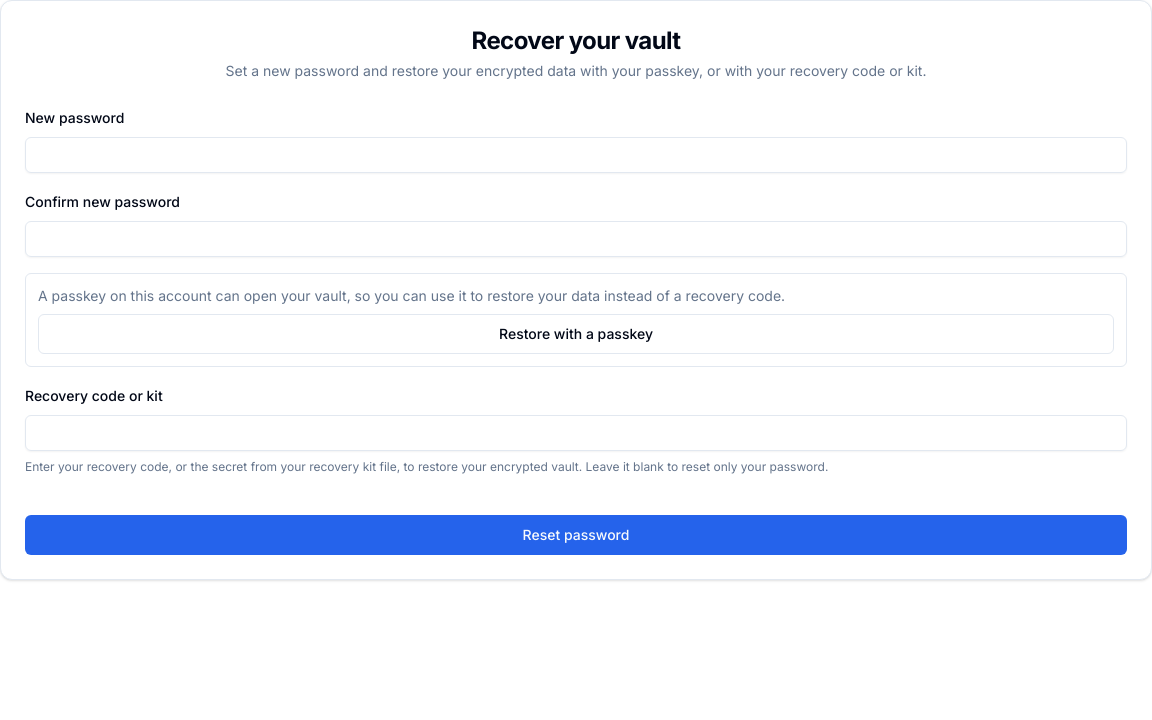
Scenario: the reset page with a passkey that opens the vault › says the data cannot be decrypted when there is no code or kit to fall back on
Expected: the button "Restore with a passkey" is shown, [38,314,1114,354]
Type "NewPassword789!" into the password field labelled "New password" at (576, 155), box [25,137,1127,173]
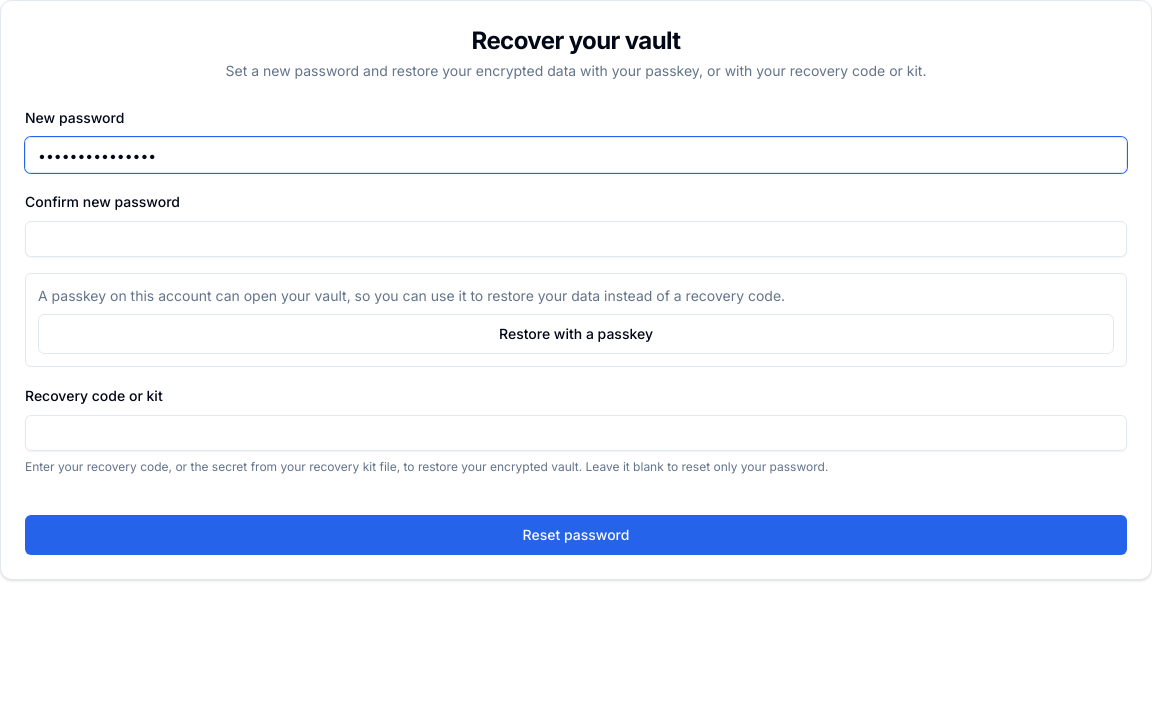
Type "NewPassword789!" into the password field labelled "Confirm new password" at (576, 239), box [25,221,1127,257]
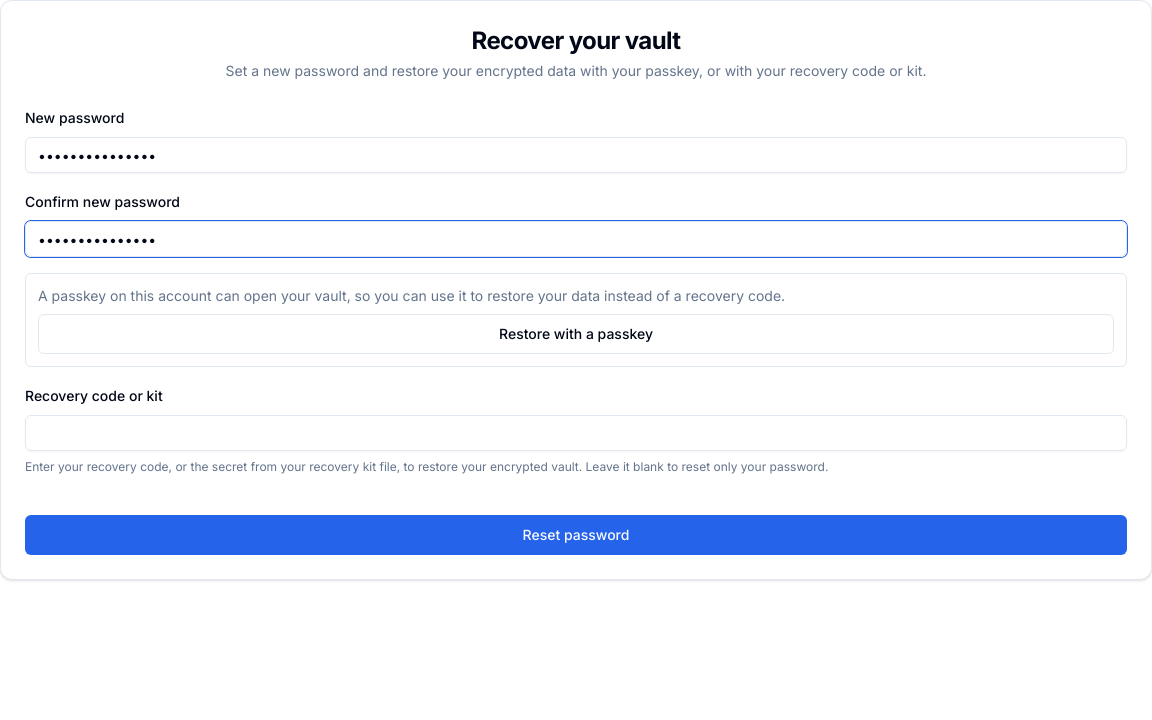
Click the button "Reset password" at (576, 535), box [25,515,1127,555]
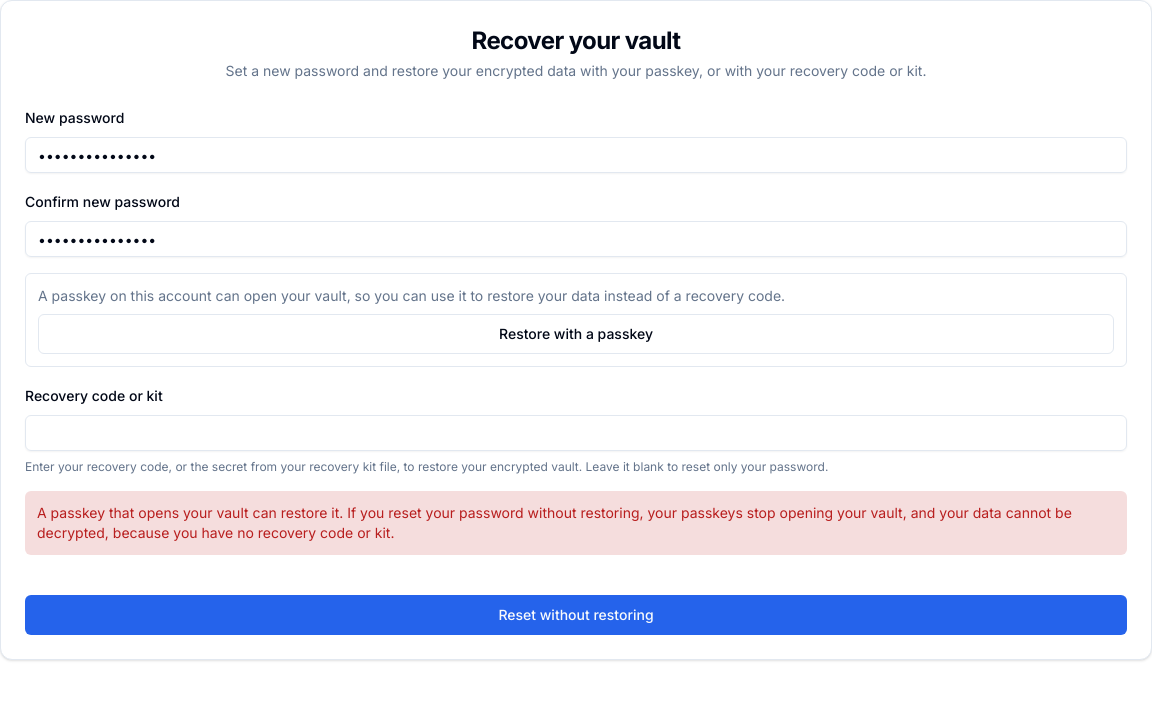
Result: the message shows "your data cannot be decrypted, because you have no recovery code or kit" at [37,504,1072,541]
